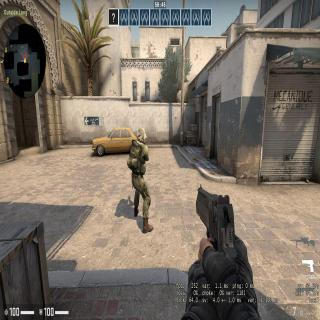CT-Body: (126, 126, 160, 233)
CT-Head: (136, 127, 147, 143)
